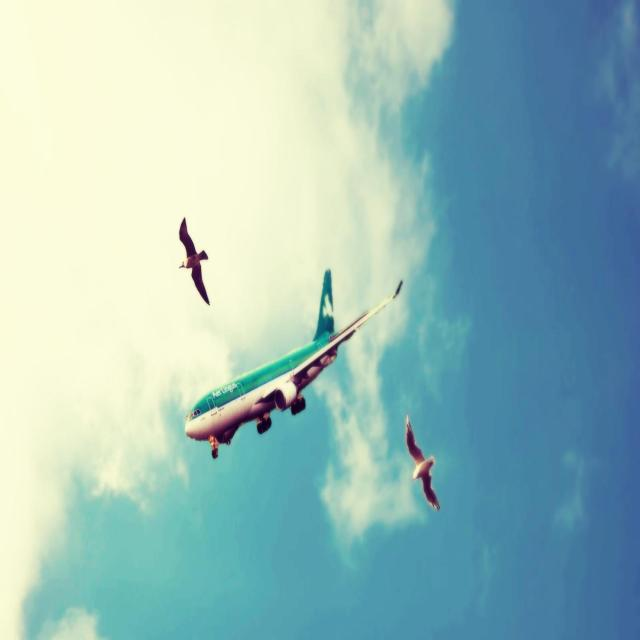airplane: (184, 267, 403, 459)
